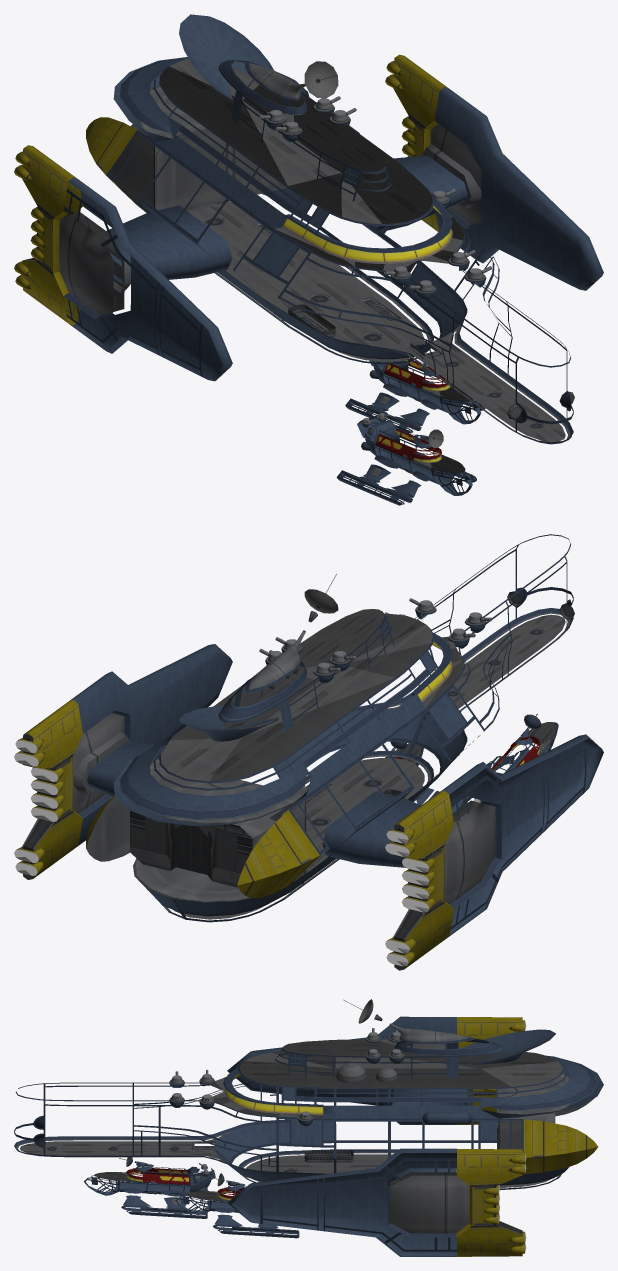
Rendered from stg310_05.obj.
3 views of the same model, one above another, from view 1: azimuth 30°, elevation 25°; view 2: azimuth 150°, elevation 25°; view 3: azimuth 270°, elevation 25° (orthographic). The views are drawn at different scales.
Visible parts, largest first — view 1: polygon12, polygon11, polygon15, polygon16, polygon14, polygon18, polygon22, polygon20, polygon30, polygon23, polygon13, polygon17 (+3 smaller); view 2: polygon12, polygon16, polygon11, polygon15, polygon18, polygon14, polygon19, polygon17, polygon20, polygon22; view 3: polygon12, polygon11, polygon15, polygon18, polygon16, polygon14, polygon22, polygon23, polygon20, polygon30, polygon31, polygon13 (+2 smaller).
Part boxes in pixels (x1=…): polygon12: x1=68, y1=14, x2=603, y2=381; polygon11: x1=63, y1=57, x2=573, y2=444; polygon15: x1=160, y1=58, x2=464, y2=358; polygon16: x1=22, y1=63, x2=574, y2=419; polygon14: x1=188, y1=61, x2=565, y2=442; polygon18: x1=14, y1=54, x2=448, y2=325; polygon22: x1=336, y1=416, x2=476, y2=505; polygon20: x1=204, y1=217, x2=570, y2=438; polygon30: x1=345, y1=360, x2=482, y2=433; polygon23: x1=337, y1=415, x2=476, y2=505; polygon13: x1=282, y1=205, x2=452, y2=263; polygon17: x1=209, y1=96, x2=491, y2=338; polygon12: x1=69, y1=611, x2=603, y2=936; polygon16: x1=22, y1=591, x2=574, y2=970; polygon11: x1=79, y1=534, x2=586, y2=929; polygon15: x1=160, y1=609, x2=464, y2=781; polygon18: x1=16, y1=700, x2=453, y2=969; polygon14: x1=173, y1=574, x2=565, y2=919; polygon19: x1=14, y1=740, x2=429, y2=966; polygon17: x1=259, y1=598, x2=491, y2=822; polygon20: x1=162, y1=612, x2=570, y2=916; polygon22: x1=451, y1=717, x2=558, y2=813; polygon12: x1=169, y1=1016, x2=603, y2=1256; polygon11: x1=14, y1=1035, x2=598, y2=1251; polygon15: x1=192, y1=1039, x2=562, y2=1149; polygon18: x1=456, y1=1017, x2=598, y2=1256; polygon16: x1=44, y1=1014, x2=594, y2=1234; polygon14: x1=20, y1=999, x2=550, y2=1187; polygon22: x1=84, y1=1157, x2=215, y2=1218; polygon23: x1=88, y1=1157, x2=215, y2=1216; polygon20: x1=16, y1=1131, x2=560, y2=1188; polygon30: x1=175, y1=1174, x2=298, y2=1238; polygon31: x1=179, y1=1174, x2=299, y2=1236; polygon13: x1=224, y1=1073, x2=323, y2=1115.
Size of the model in its own units: 2968 by 2207 by 5217.
